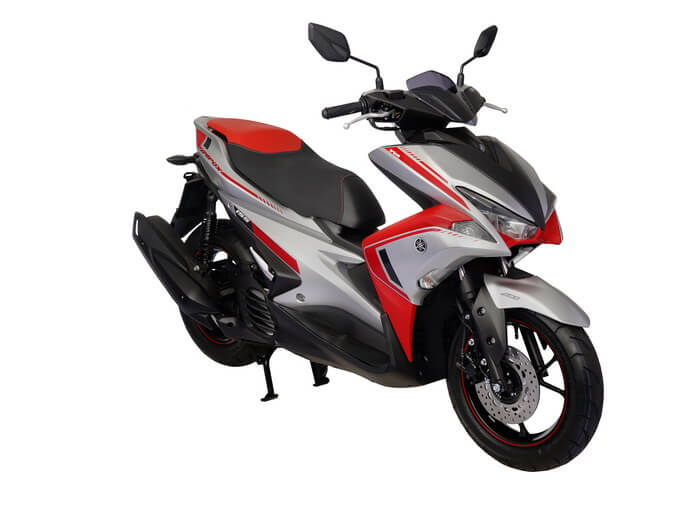motorcycle: (152, 77, 601, 475)
